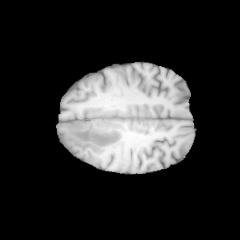glioma: (67, 120, 122, 146)
